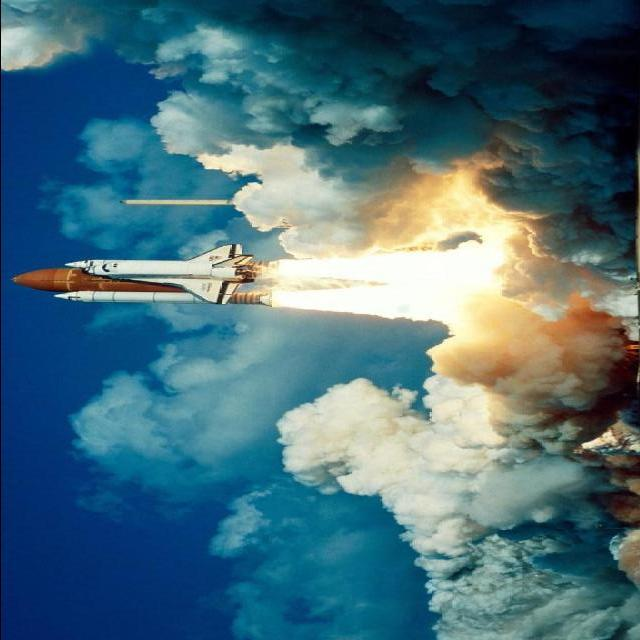Missile: (49, 288, 274, 308), (109, 197, 235, 209)
